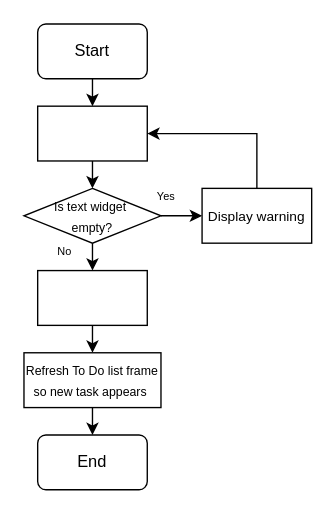
This 336x514 diagram has some shape labels left out. Each missing label, with the centre of its shape:
"Read text in Entry Widget" belongs at point 91,133.
"Write task to database" belongs at point 91,297.
